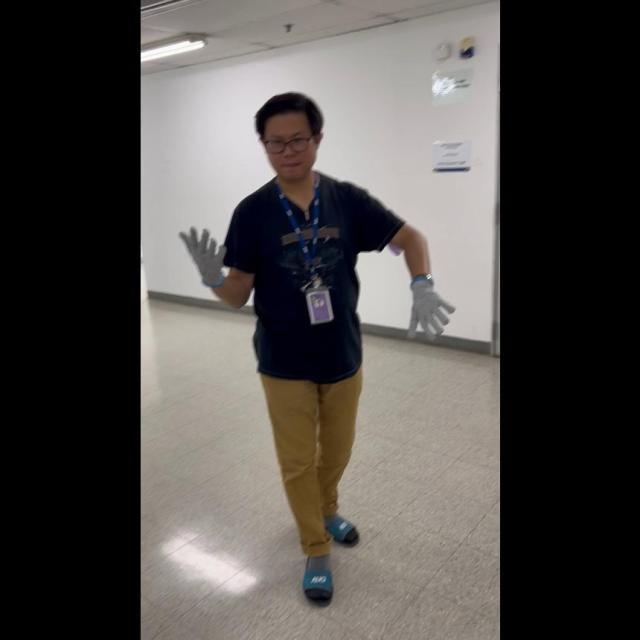gloved_hand: (401, 272, 455, 339), (177, 222, 229, 287)
